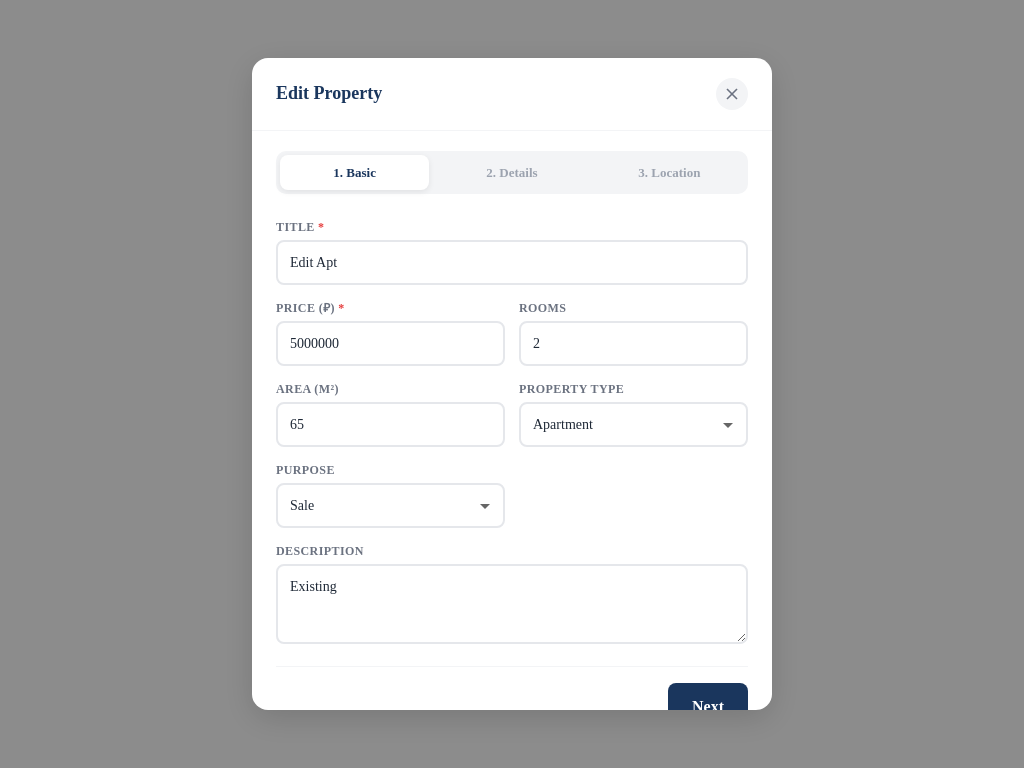
PropertyFormModal › Edit mode - pre-fill › pre-fills material on step 2
This screenshot has width=1024, height=768.
What coordinates should you click on to do the following:
click the button "Next"
I would click on:
 (708, 707)
Its box is [668,683,748,731].
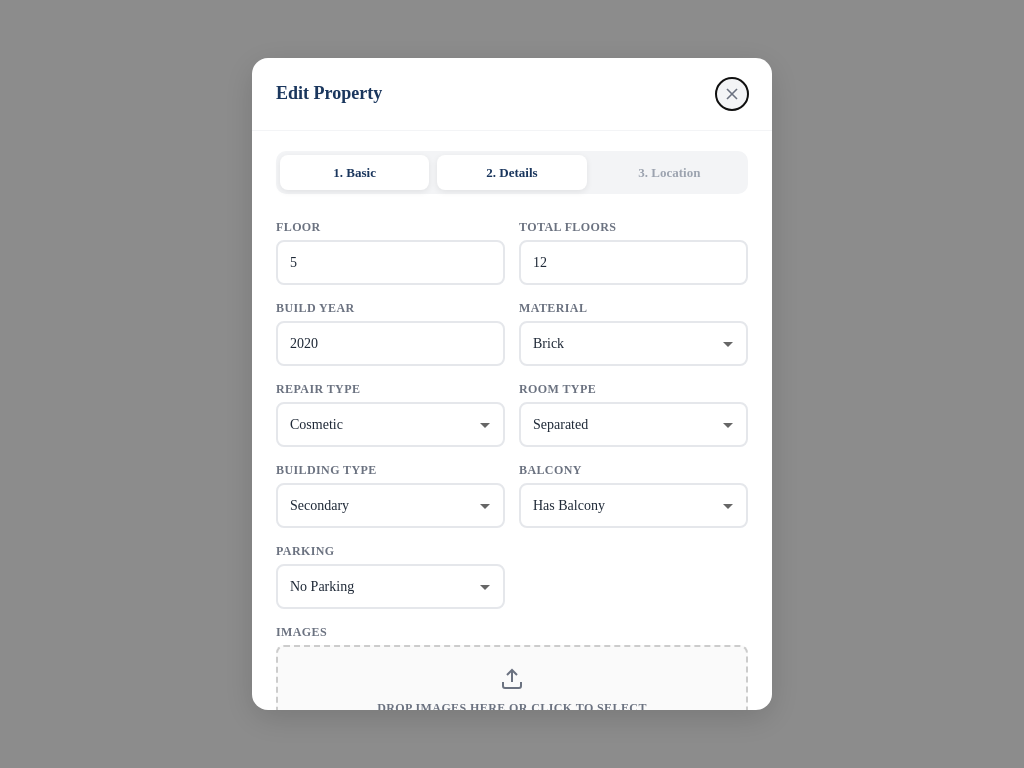
Check: the dropdown showing "Brick" below "Material" is shown, box [519,321,748,366]
